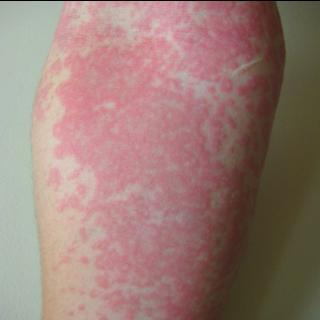urticaria: (62, 50, 151, 144)
